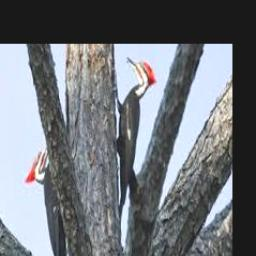Woodpecker: (112, 57, 155, 218), (25, 135, 69, 256)
